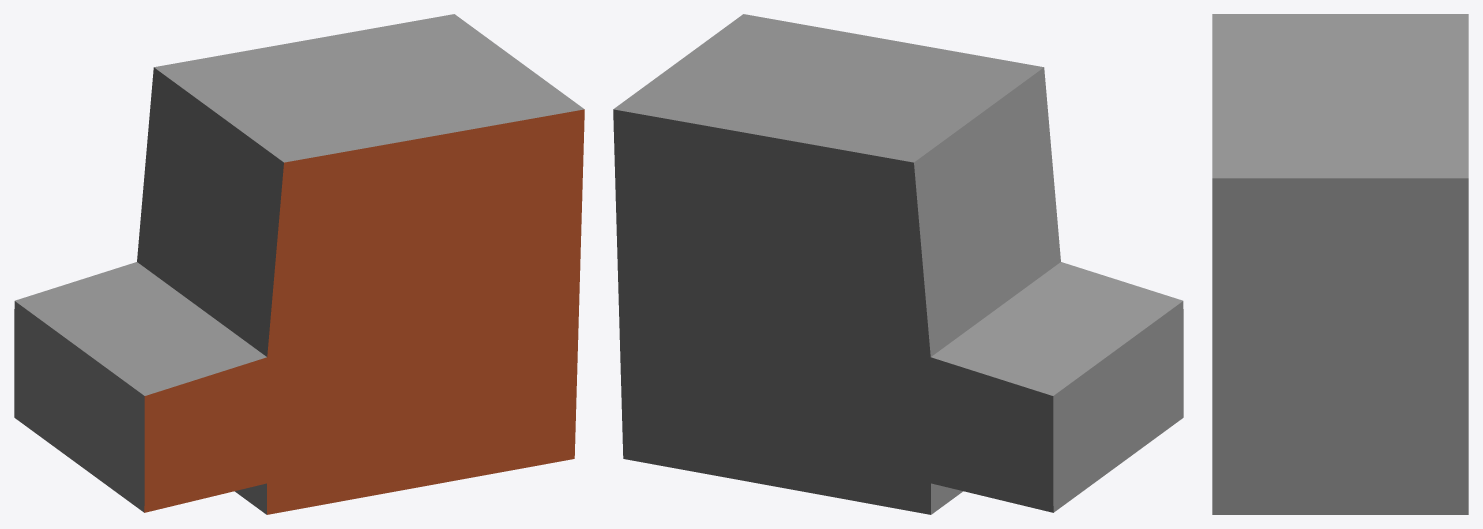
The model's file is construction_4513_assumed_A_Casa_h6m.obj.
3 renders of one model, left to right at view 1: azimuth 30°, elevation 25°; view 2: azimuth 150°, elevation 25°; view 3: azimuth 270°, elevation 25°, orthographic.
Visible parts, largest first — view 1: construction_4513_assumed_A_Casa; view 2: construction_4513_assumed_A_Casa; view 3: construction_4513_assumed_A_Casa.
Part boxes in pixels (x1,y1,x2,y2): construction_4513_assumed_A_Casa: (14,14,584,514); construction_4513_assumed_A_Casa: (613,14,1183,514); construction_4513_assumed_A_Casa: (1212,14,1468,514).
Size of the model in its own units: 11.71 by 9.33 by 6.
